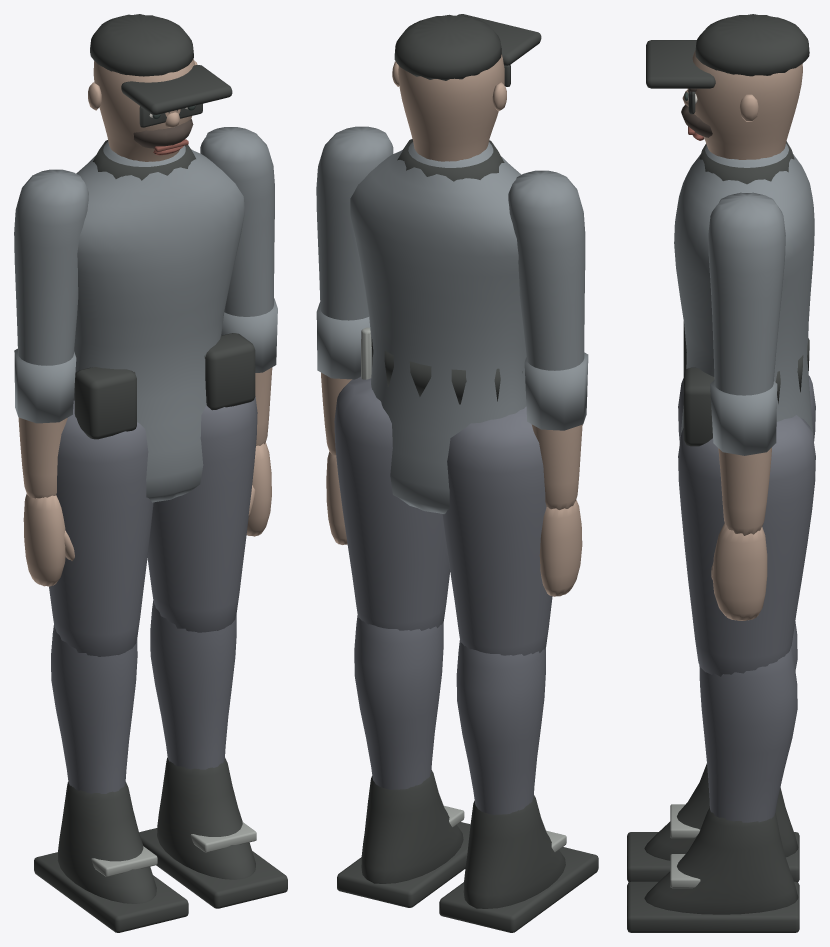
Rendered from resident_still_f_v6.glb.
The picture shows the model from 3 angles, left to right: view 1: azimuth 30°, elevation 25°; view 2: azimuth 150°, elevation 25°; view 3: azimuth 270°, elevation 25°; orthographic projection. The views are drawn at different scales.
Parts seen in each view (by area): view 1: HabResidentStill; view 2: HabResidentStill; view 3: HabResidentStill.
Part boxes in pixels (x1=…): HabResidentStill: x1=14, y1=14, x2=287, y2=932; HabResidentStill: x1=316, y1=14, x2=598, y2=932; HabResidentStill: x1=627, y1=14, x2=815, y2=932.
Bounding box in the file's own units: 0.5858 × 1.84 × 0.3639.
